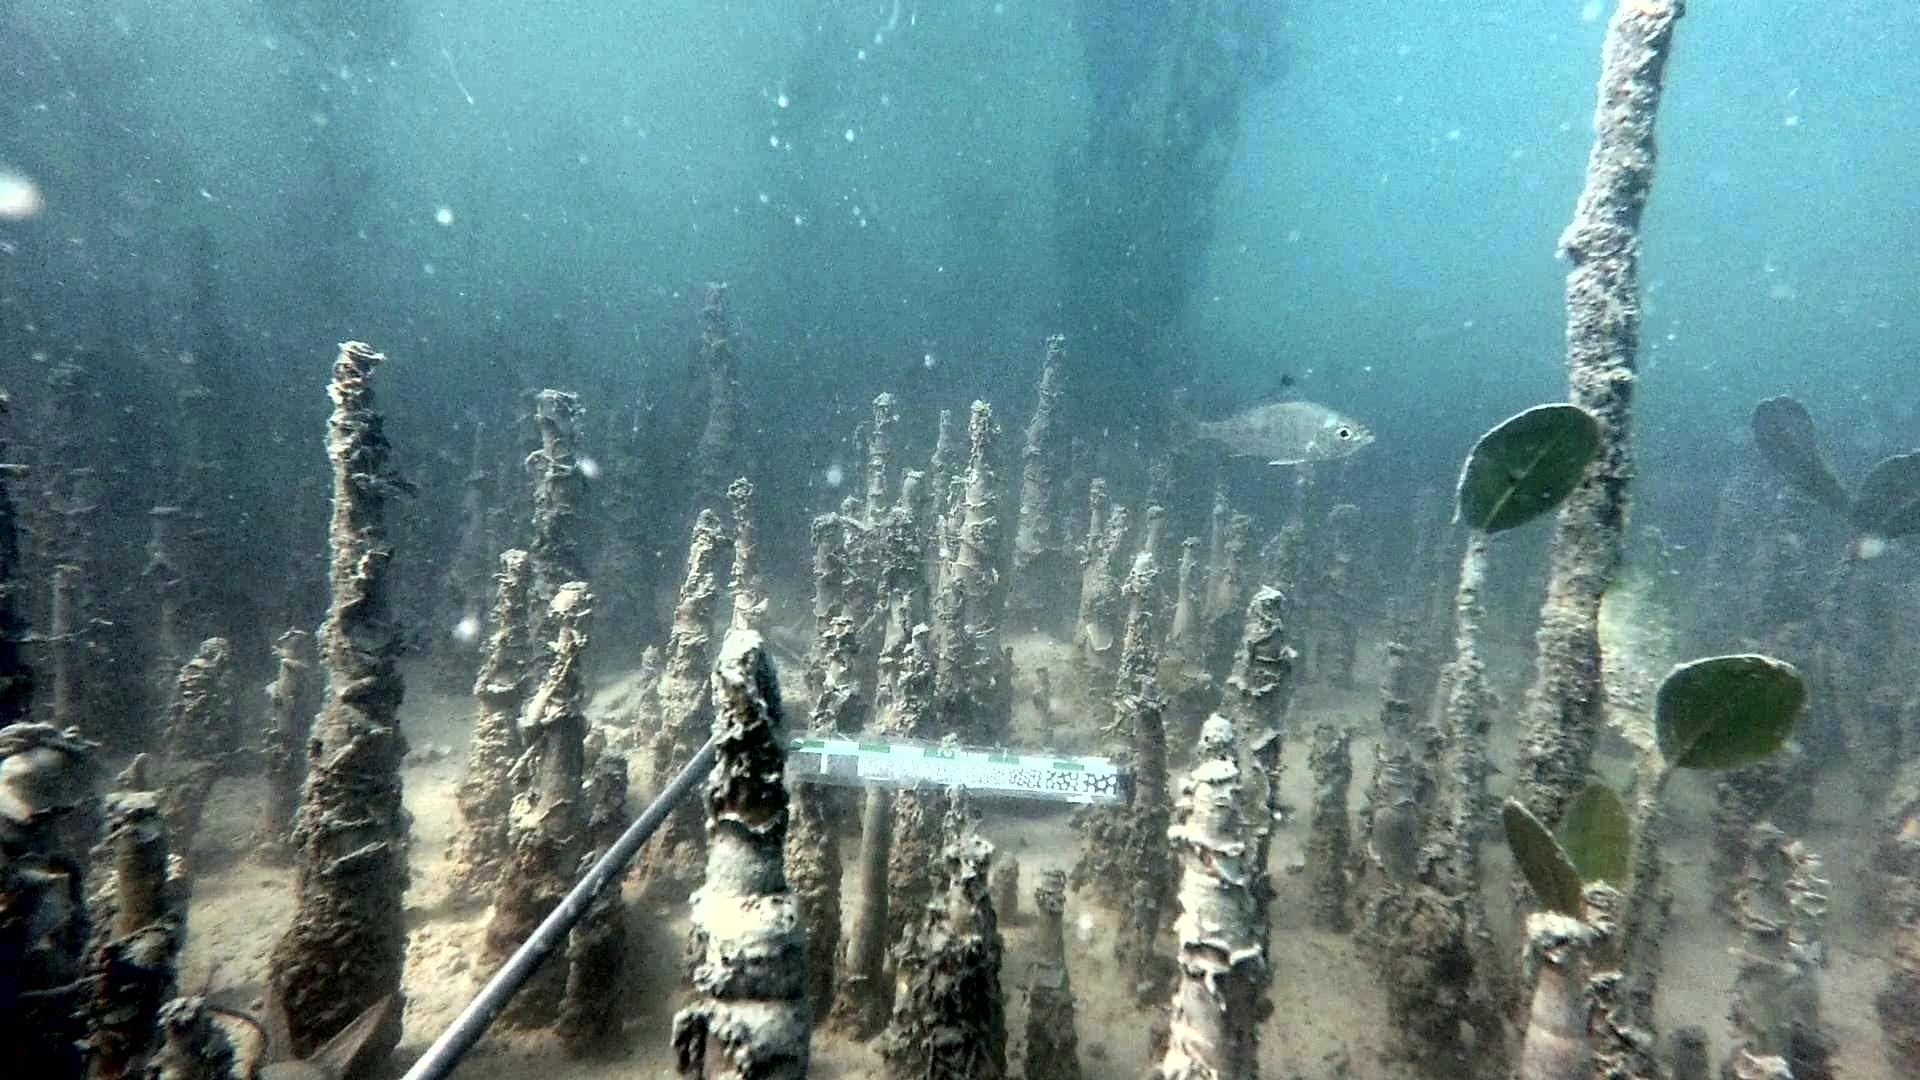gerres: (1164, 375, 1379, 468)
